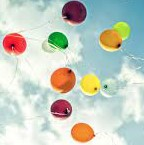Balloon: (51, 67, 75, 92), (62, 1, 87, 25), (2, 32, 27, 56), (98, 28, 122, 50), (71, 123, 95, 142), (79, 74, 99, 96), (51, 100, 72, 119), (100, 77, 119, 97), (48, 32, 68, 49)
